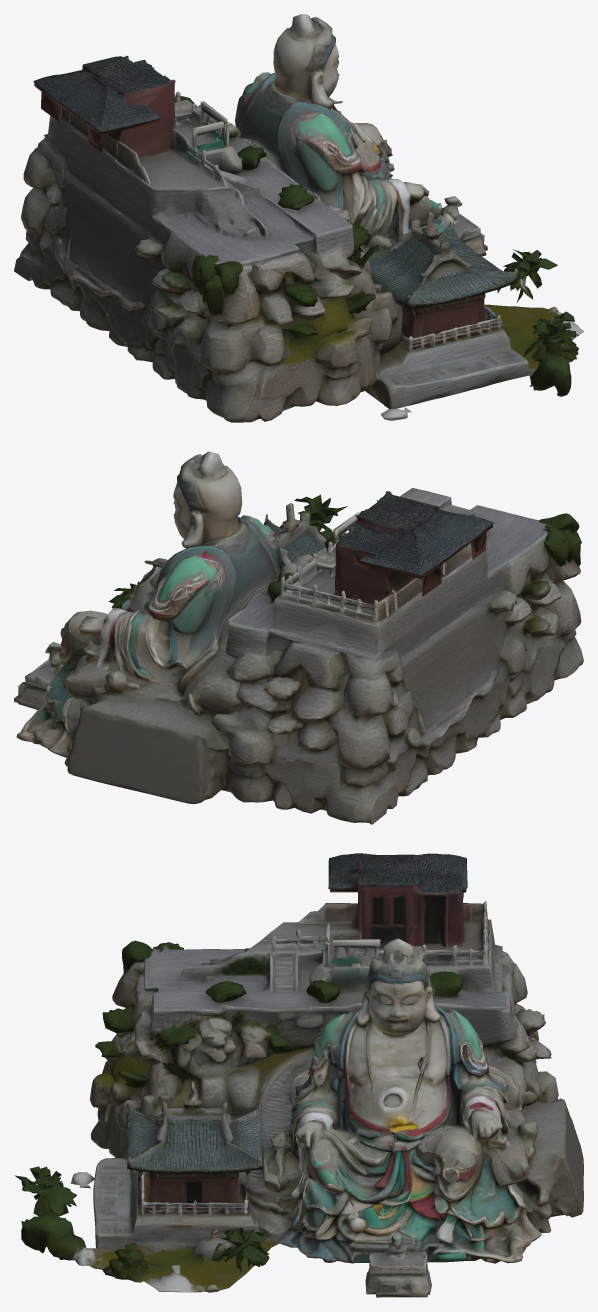
The model's file is building-qingliansi.glb.
3 views of the same model, one above another, from view 1: azimuth 30°, elevation 25°; view 2: azimuth 150°, elevation 25°; view 3: azimuth 270°, elevation 25° (orthographic). The views are drawn at different scales.
Parts seen in each view (by area): view 1: node_9f7808ce-24f0-42fa-9857-88357611d6e8; view 2: node_9f7808ce-24f0-42fa-9857-88357611d6e8; view 3: node_9f7808ce-24f0-42fa-9857-88357611d6e8.
Boxes of the visible parts, x1=… form: node_9f7808ce-24f0-42fa-9857-88357611d6e8: x1=14, y1=14, x2=583, y2=422; node_9f7808ce-24f0-42fa-9857-88357611d6e8: x1=14, y1=451, x2=583, y2=824; node_9f7808ce-24f0-42fa-9857-88357611d6e8: x1=14, y1=853, x2=583, y2=1297.
Bounding box in the file's own units: 0.8381 × 0.5276 × 1.
Materials: 1 (1 with a texture image).
